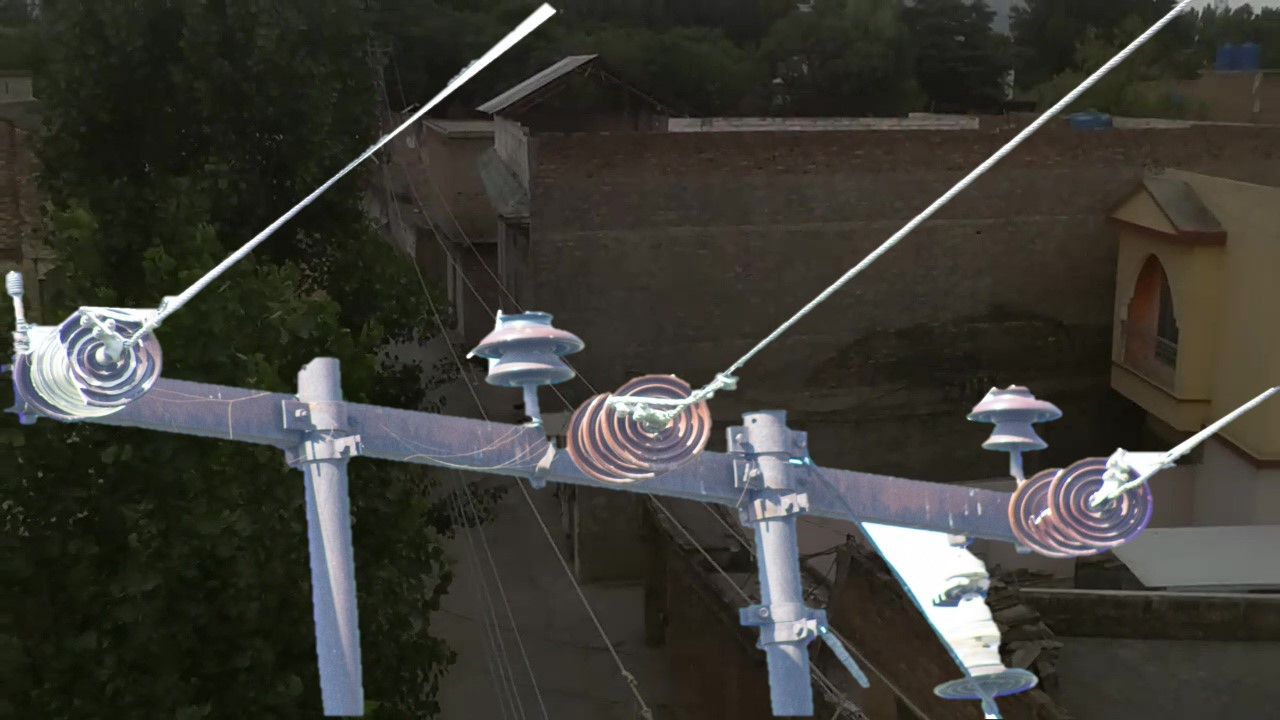defect_disc: (56, 296, 168, 416)
insulator_disc: (597, 368, 717, 476), (1044, 451, 1161, 551)
